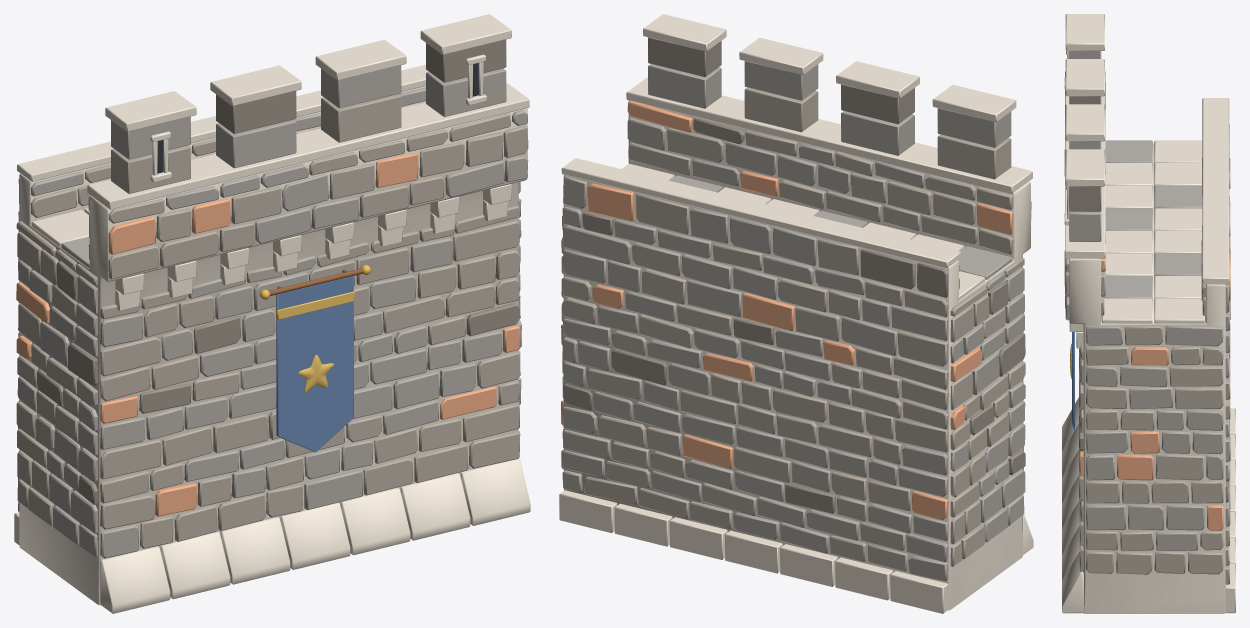
File: great-wall-segment.glb
The picture shows the model from 3 angles, left to right: view 1: azimuth 30°, elevation 25°; view 2: azimuth 150°, elevation 25°; view 3: azimuth 270°, elevation 25°; orthographic projection. The views are drawn at different scales.
Visible parts, largest first — view 1: castle-wall_stonework, castle-wall_details, castle-wall_body; view 2: castle-wall_stonework, castle-wall_details, castle-wall_body; view 3: castle-wall_details, castle-wall_stonework, castle-wall_body.
Part boxes in pixels (left/top/right/bottom): castle-wall_stonework: left=16, top=87, right=528, bottom=558; castle-wall_details: left=14, top=14, right=530, bottom=613; castle-wall_body: left=19, top=86, right=527, bottom=605; castle-wall_stonework: left=561, top=101, right=1031, bottom=581; castle-wall_details: left=559, top=14, right=1033, bottom=613; castle-wall_body: left=563, top=100, right=1030, bottom=610; castle-wall_details: left=1062, top=14, right=1235, bottom=613; castle-wall_stonework: left=1064, top=83, right=1230, bottom=584; castle-wall_body: left=1069, top=143, right=1225, bottom=613.
Size of the model in its own units: 6.13 by 6.62 by 2.44.
11 materials, 1 textured.
